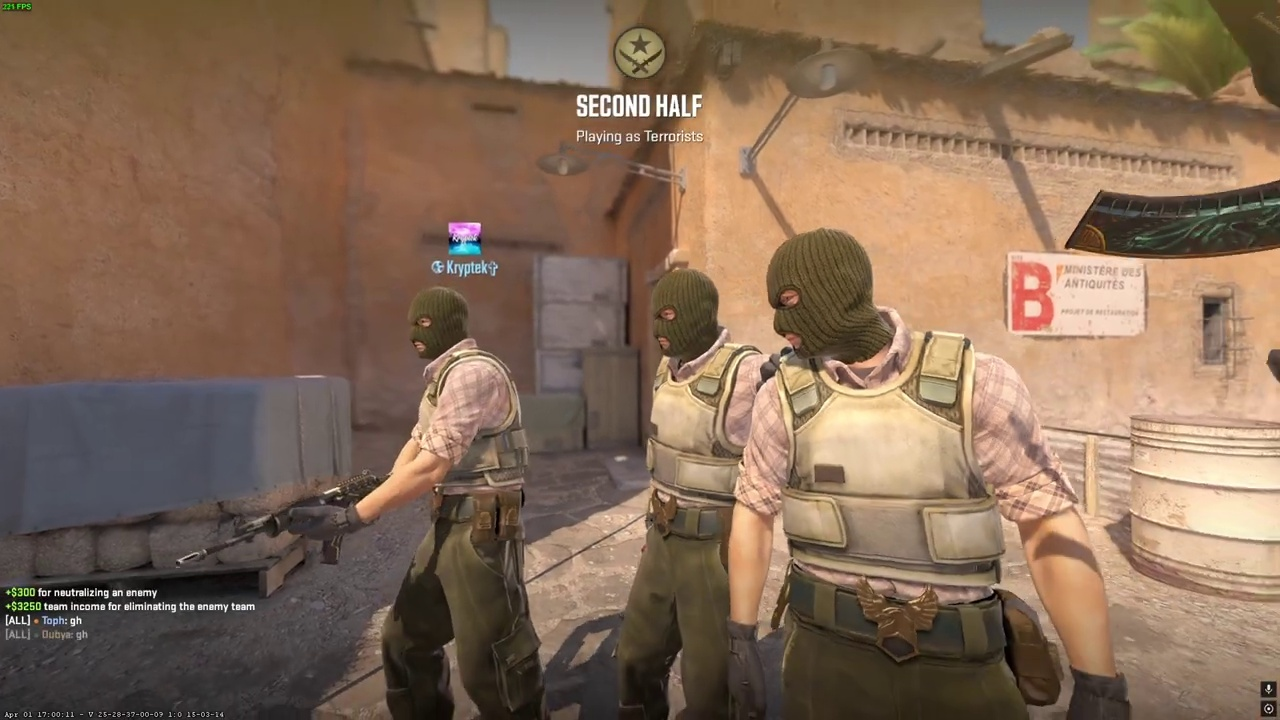Terrorist: (747, 226, 1077, 720), (365, 287, 553, 720), (610, 269, 773, 720)
